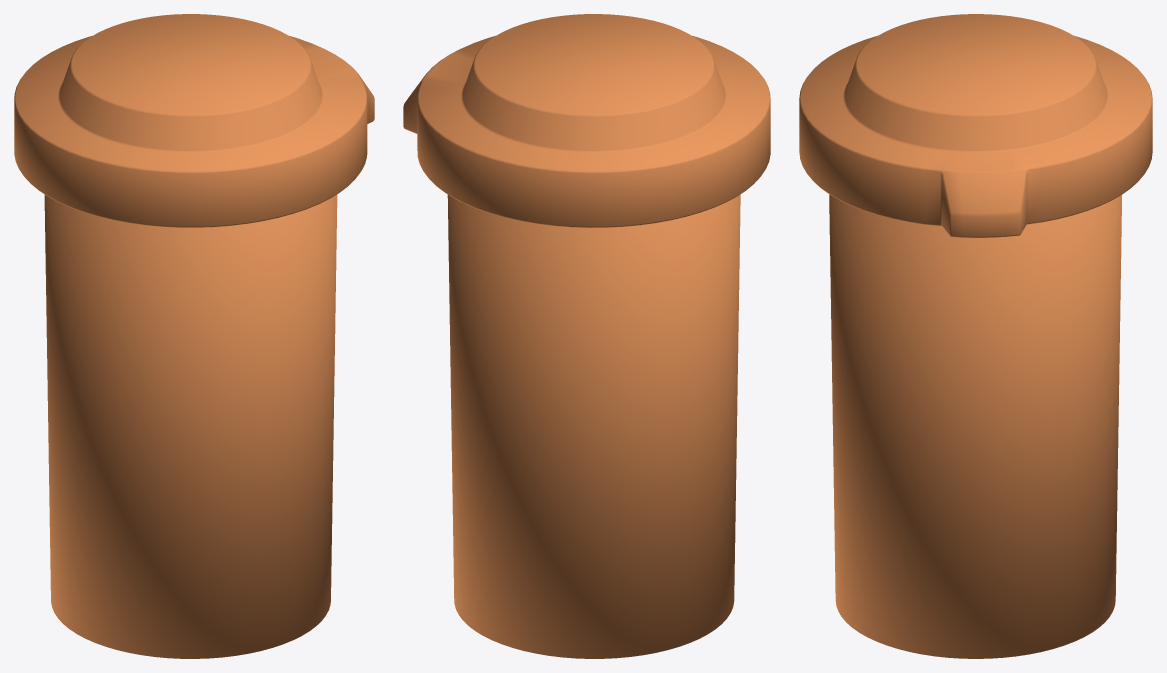
Rendered from pills_ver3.fbx.
The picture shows the model from 3 angles, left to right: view 1: azimuth 30°, elevation 25°; view 2: azimuth 150°, elevation 25°; view 3: azimuth 270°, elevation 25°; orthographic projection.
Visible parts, largest first — view 1: Cylinder.028; view 2: Cylinder.028; view 3: Cylinder.028.
Part boxes in pixels (x1,y1,x2,y2): Cylinder.028: (14,14,374,658); Cylinder.028: (403,14,770,658); Cylinder.028: (799,14,1152,658).
Size of the model in its own units: 17.12 by 26.81 by 16.03.
